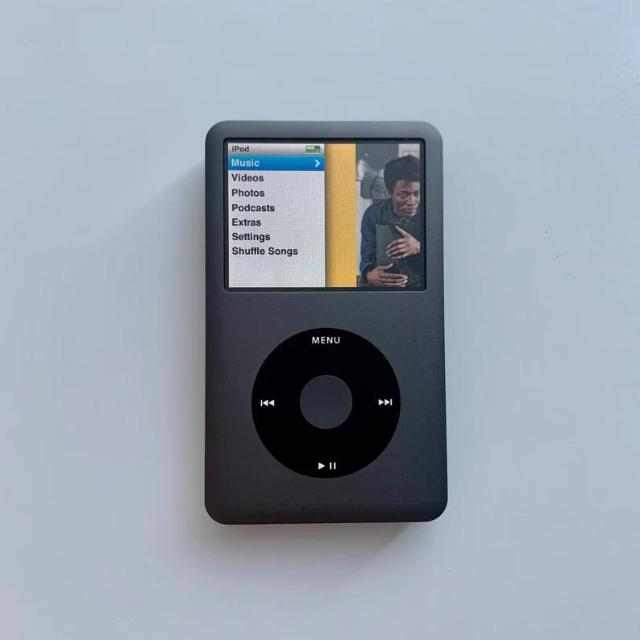Music-Player: (194, 110, 458, 540)
